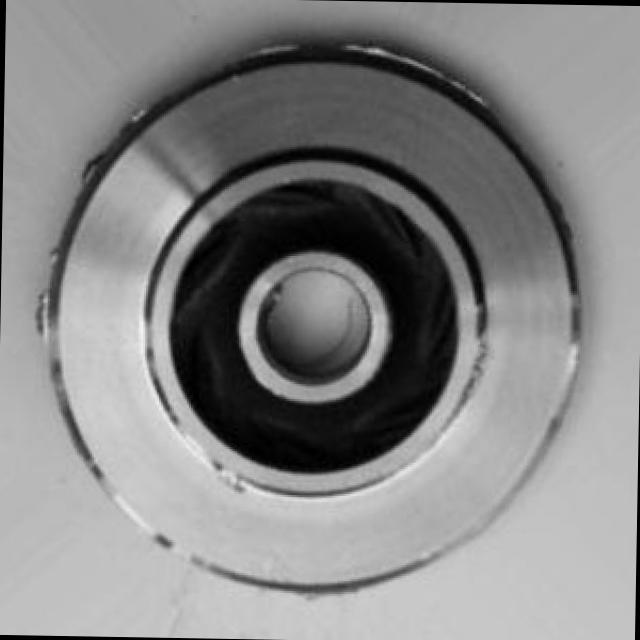Defect: (342, 29, 441, 78), (23, 273, 60, 349)
